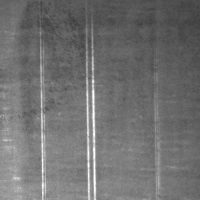scratches: (83, 10, 99, 200), (37, 16, 49, 200), (152, 57, 163, 198)
